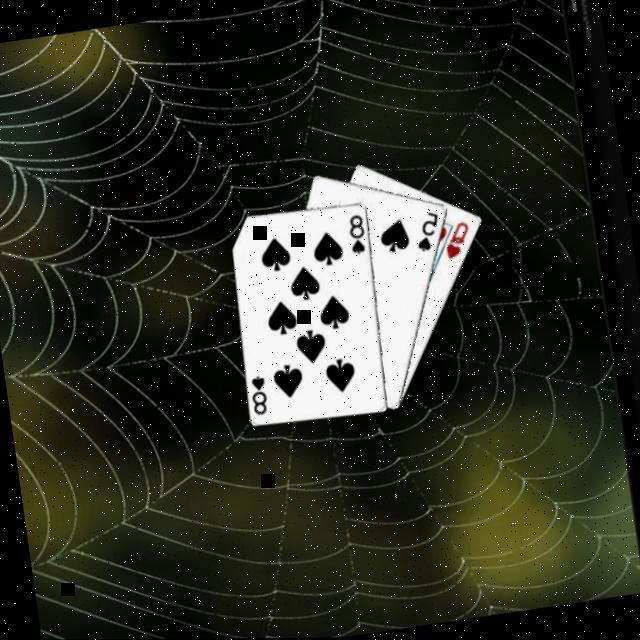5S: (410, 206, 446, 253)
8S: (245, 370, 271, 416), (344, 210, 369, 256)
QH: (439, 217, 474, 262)
